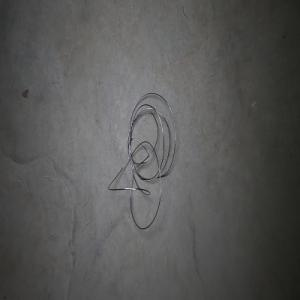Wire: (107, 92, 175, 229)
